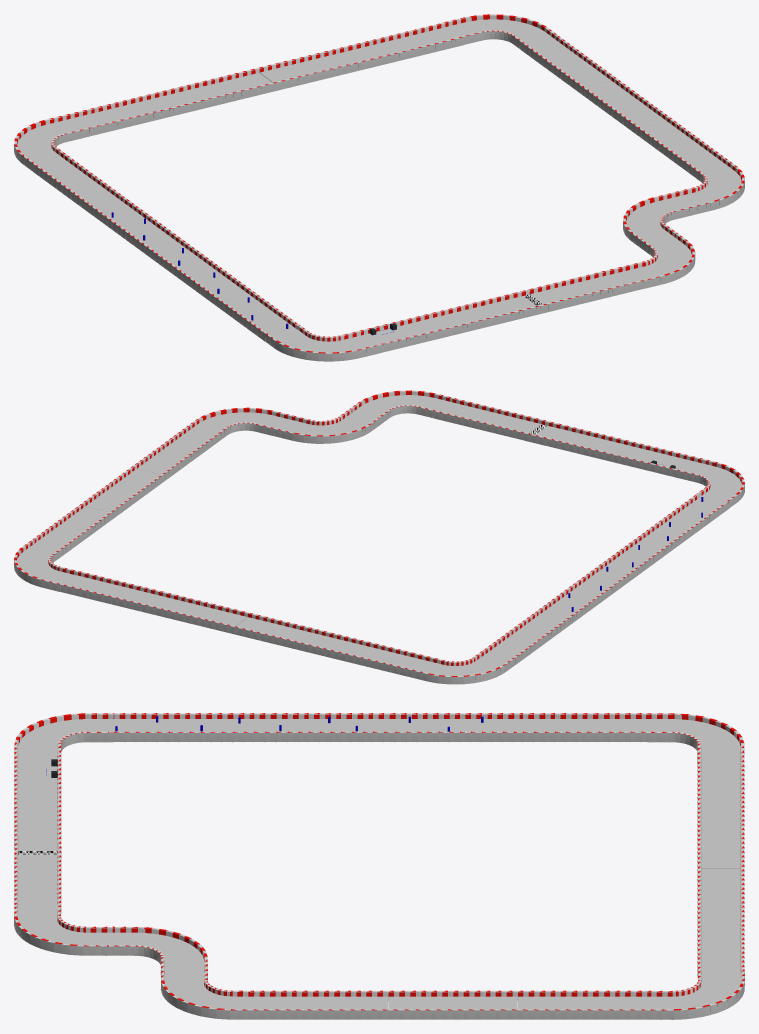
File: track.dae
3 views of the same model, one above another, from view 1: azimuth 30°, elevation 25°; view 2: azimuth 150°, elevation 25°; view 3: azimuth 270°, elevation 25° (orthographic). The views are drawn at different scales.
Parts seen in each view (by area): view 1: block.014, block.013, block.012, block.002, block.010, block.020, block.011, block.007, block.004, block.006, block.001, block.005 (+9 smaller); view 2: block.014, block.013, block.015, block.002, block.003, block.012, block.004, block.011, block.001, block.007, block.010, block.005 (+10 smaller); view 3: block.006, block.005, block.008, block.016, block.017, block.018, block.010, block.004, block.001, block.015, block.022, block.003 (+9 smaller).
Part boxes in pixels (bbox=[...]): block.014: bbox=[65, 91, 181, 137]; block.013: bbox=[162, 68, 278, 113]; block.012: bbox=[259, 44, 374, 90]; block.002: bbox=[528, 266, 644, 311]; block.010: bbox=[443, 14, 558, 51]; block.020: bbox=[263, 324, 379, 361]; block.011: bbox=[347, 22, 463, 67]; block.007: bbox=[416, 293, 531, 338]; block.004: bbox=[674, 158, 744, 214]; block.006: bbox=[579, 76, 669, 133]; block.001: bbox=[624, 232, 695, 288]; block.005: bbox=[635, 117, 725, 174]; block.014: bbox=[319, 634, 426, 676]; block.013: bbox=[230, 612, 337, 655]; block.015: bbox=[408, 650, 515, 684]; block.002: bbox=[435, 398, 542, 440]; block.003: bbox=[274, 409, 381, 443]; block.012: bbox=[141, 591, 248, 633]; block.004: bbox=[186, 407, 292, 441]; block.011: bbox=[60, 571, 166, 612]; block.001: bbox=[349, 390, 454, 423]; block.007: bbox=[540, 423, 646, 465]; block.010: bbox=[14, 539, 78, 591]; block.005: bbox=[135, 427, 217, 479]; block.006: bbox=[388, 990, 517, 1019]; block.005: bbox=[258, 990, 388, 1019]; block.008: bbox=[517, 990, 647, 1019]; block.016: bbox=[517, 713, 646, 742]; block.017: bbox=[390, 713, 519, 742]; block.018: bbox=[271, 713, 400, 742]; block.010: bbox=[645, 969, 744, 1019]; block.004: bbox=[160, 968, 259, 1019]; block.001: bbox=[14, 904, 112, 955]; block.015: bbox=[645, 713, 744, 763]; block.022: bbox=[108, 713, 238, 742]; block.003: bbox=[109, 926, 207, 974].
Bounding box in the file's own units: 131 × 136 × 2.13.
